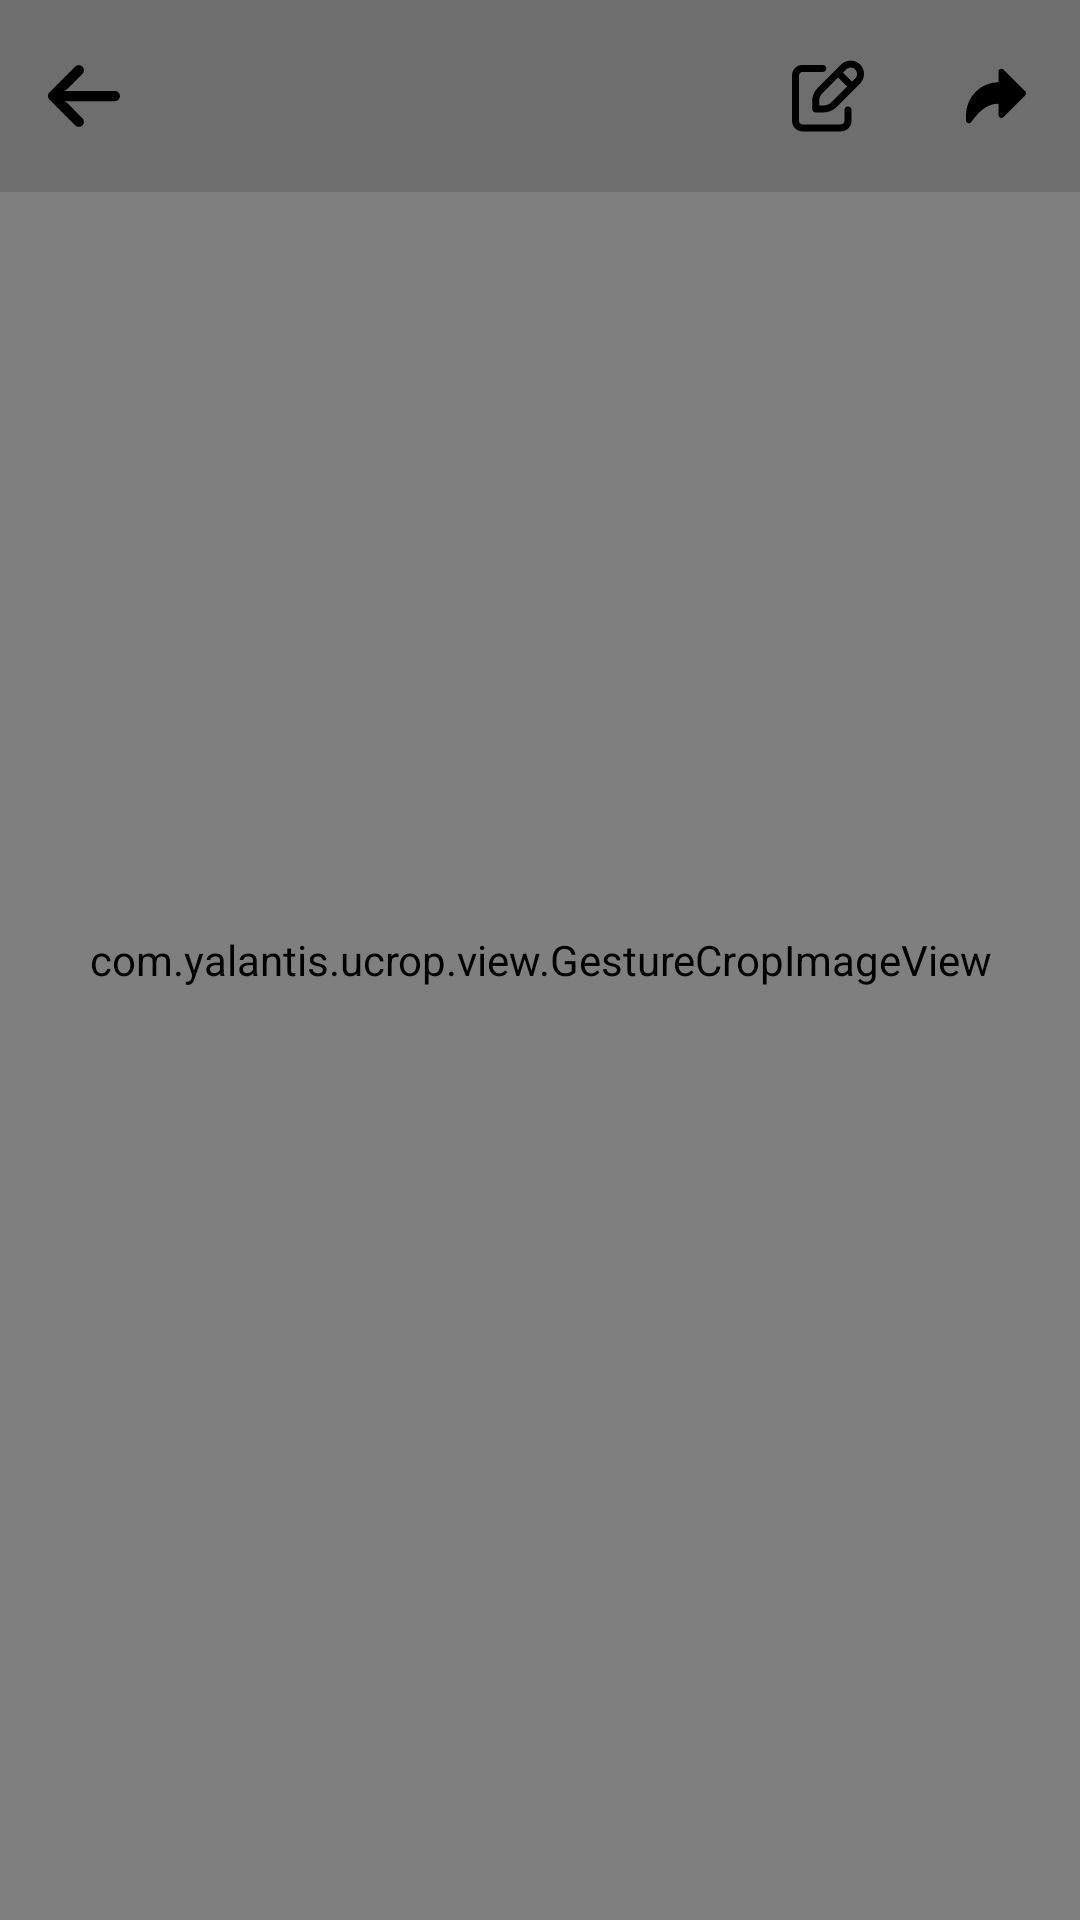

Icons on this 1080*1920 Android screen, each with its box as (x1, y1, x2, y2):
edit: (792, 60, 864, 132)
share: (966, 68, 1026, 124)
